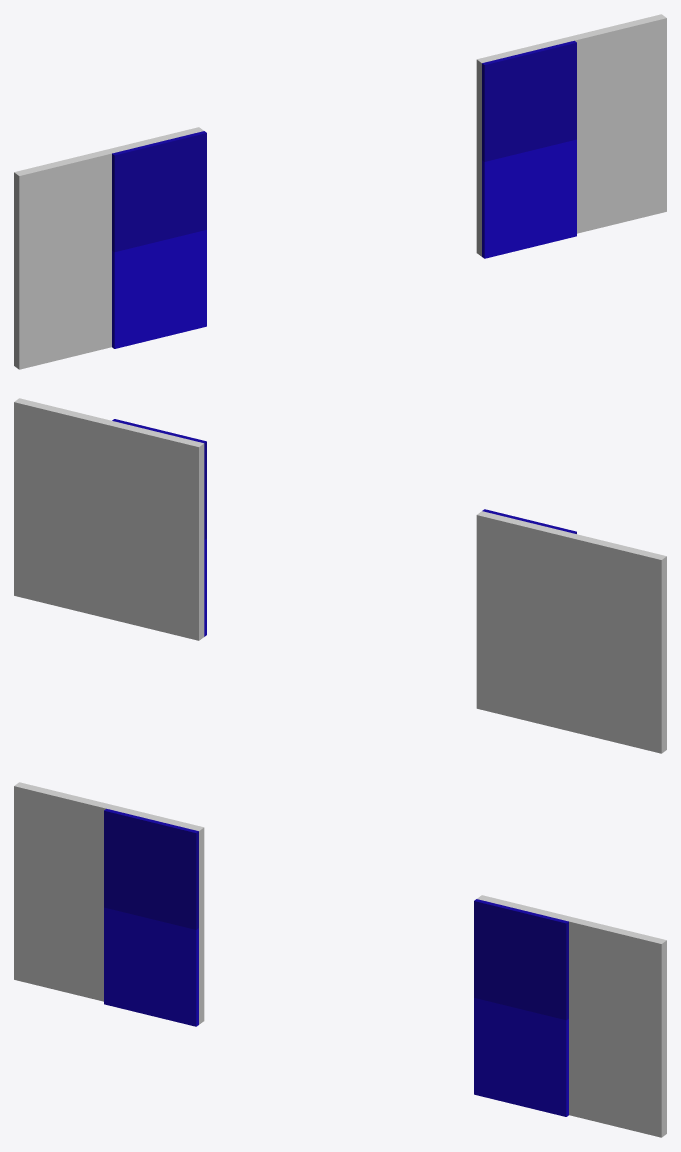
The model's file is Eyes1.fbx.
3 views of the same model, one above another, from view 1: azimuth 30°, elevation 25°; view 2: azimuth 150°, elevation 25°; view 3: azimuth 330°, elevation 25° (orthographic).
Parts seen in each view (by area): view 1: Eyes1; view 2: Eyes1; view 3: Eyes1.
Boxes of the visible parts, left/top/right/bottom form: Eyes1: left=14, top=14, right=666, bottom=369; Eyes1: left=14, top=398, right=666, bottom=753; Eyes1: left=14, top=782, right=666, bottom=1137.
Size of the model in its own units: 70 by 20 by 1.5.
